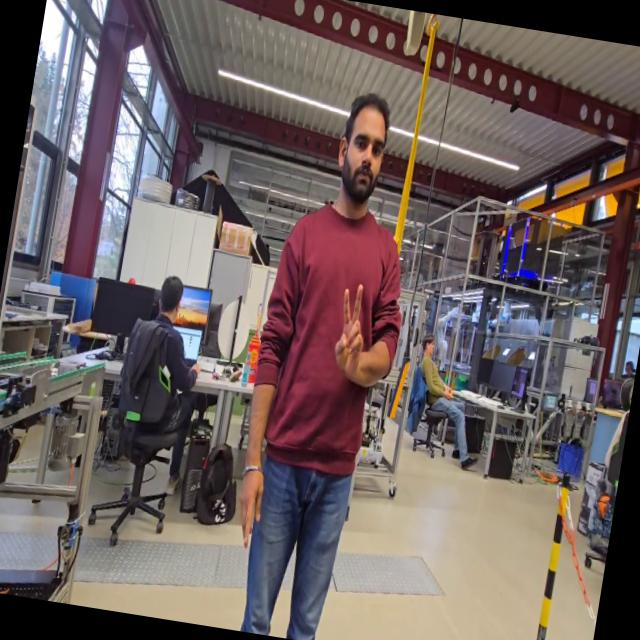v_sign: (326, 278, 374, 384)
